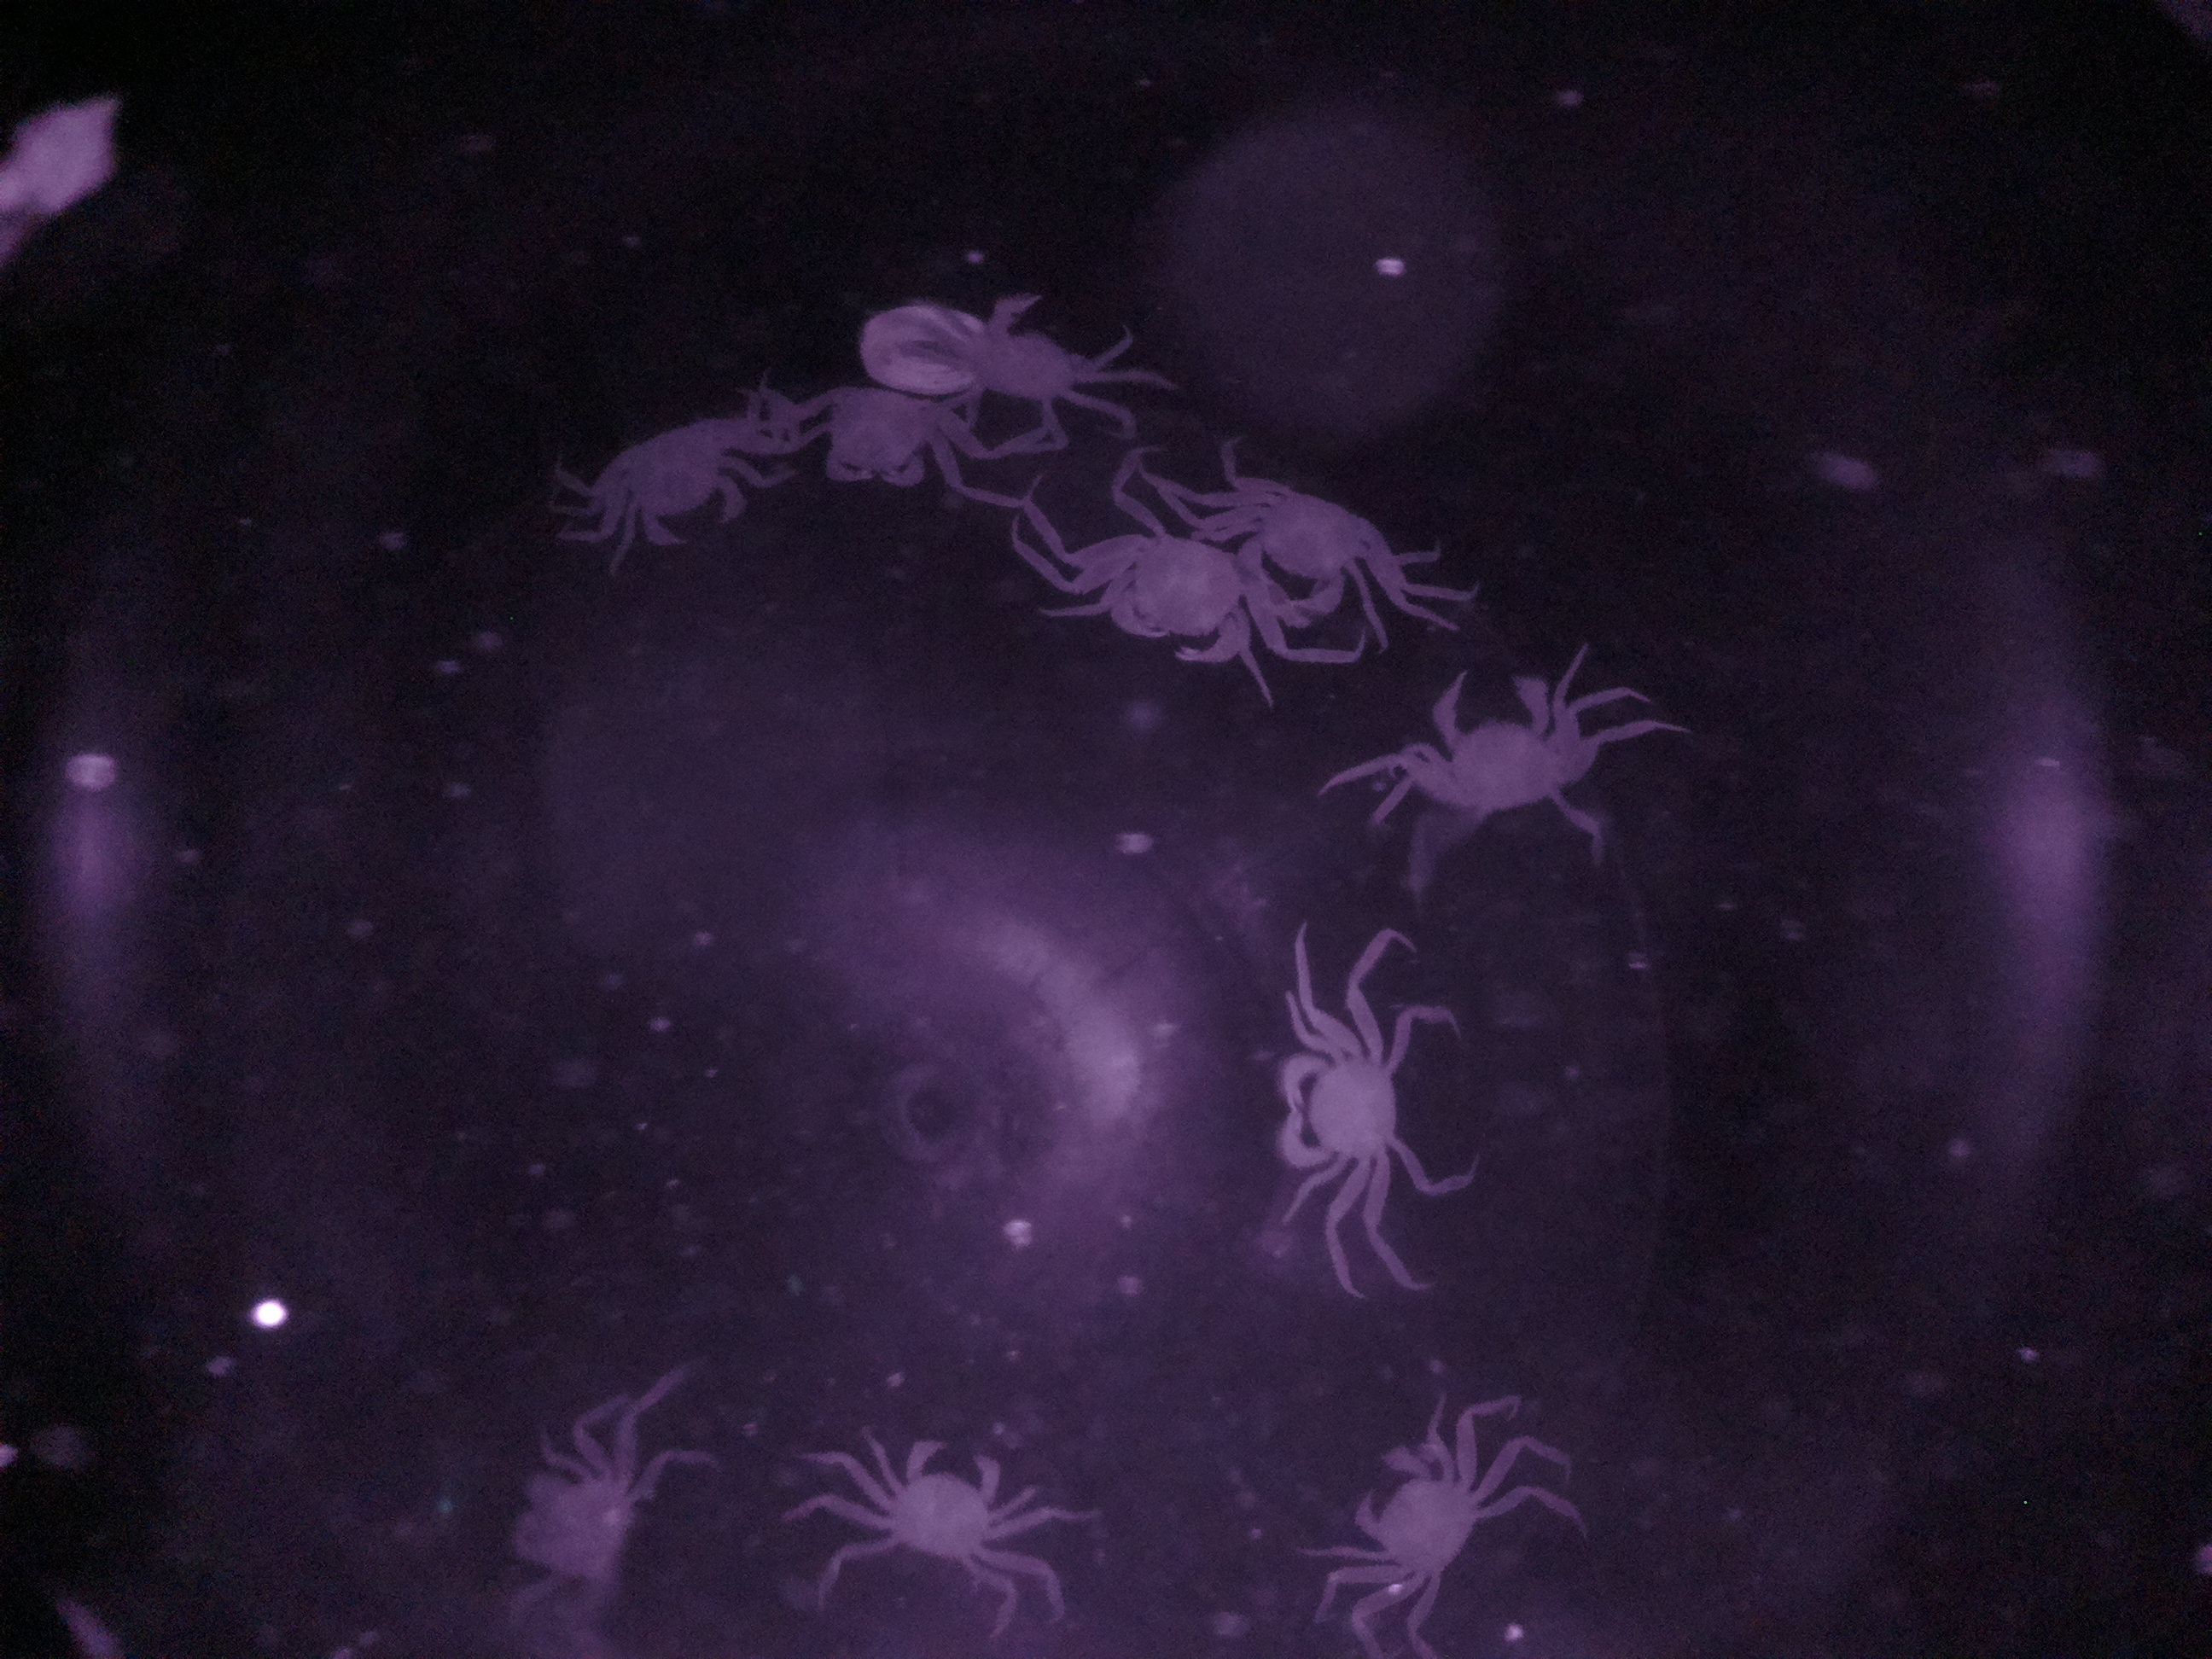Crab: (1395, 650, 1597, 852), (1325, 1427, 1521, 1617), (1263, 999, 1426, 1220), (852, 1417, 1040, 1596), (1064, 521, 1277, 678), (599, 397, 772, 577)
